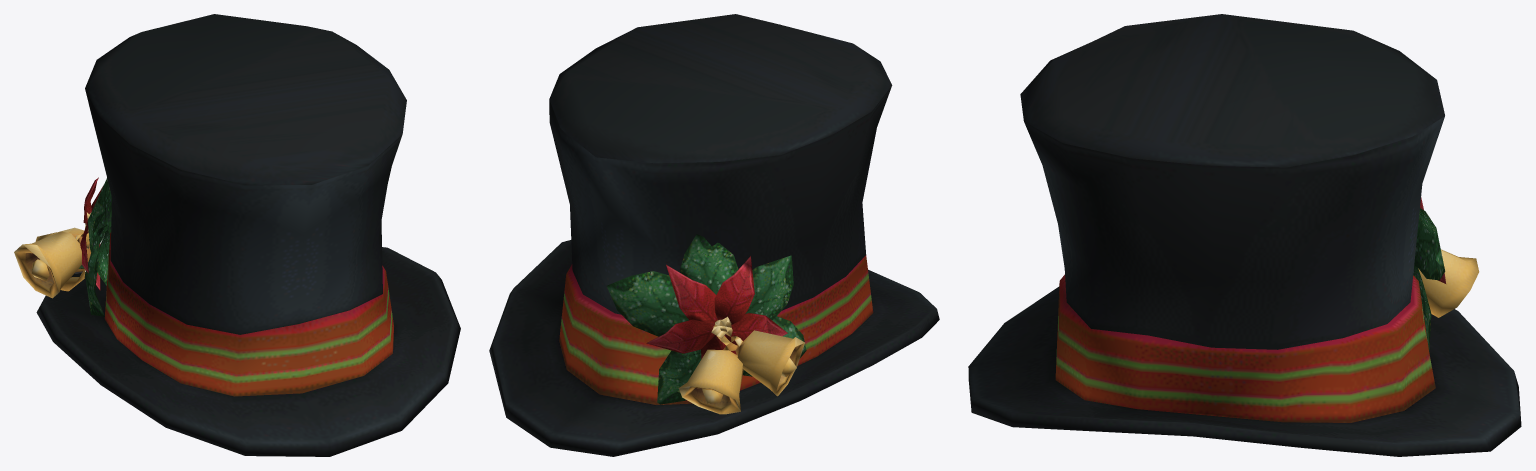
The model's file is HolidayTopHat_Ground.fbx.
3 renders of one model, left to right at view 1: azimuth 30°, elevation 25°; view 2: azimuth 150°, elevation 25°; view 3: azimuth 270°, elevation 25°, orthographic. The views are drawn at different scales.
Parts seen in each view (by area): view 1: 24_hat_0.3_0_0; view 2: 24_hat_0.3_0_0; view 3: 24_hat_0.3_0_0.
Boxes of the visible parts, bbox=[...] form: 24_hat_0.3_0_0: bbox=[14, 14, 460, 456]; 24_hat_0.3_0_0: bbox=[489, 14, 939, 456]; 24_hat_0.3_0_0: bbox=[968, 14, 1521, 456].
Size of the model in its own units: 0.1607 by 0.1245 by 0.1921.
